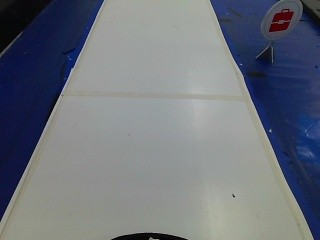company: (260, 0, 303, 42)
